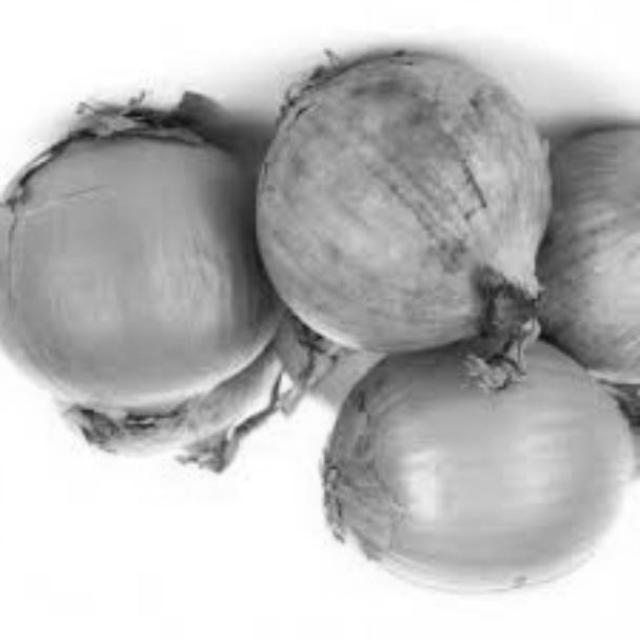cu hanh: (236, 59, 562, 387), (0, 111, 282, 464), (307, 330, 636, 617), (524, 100, 640, 393)
